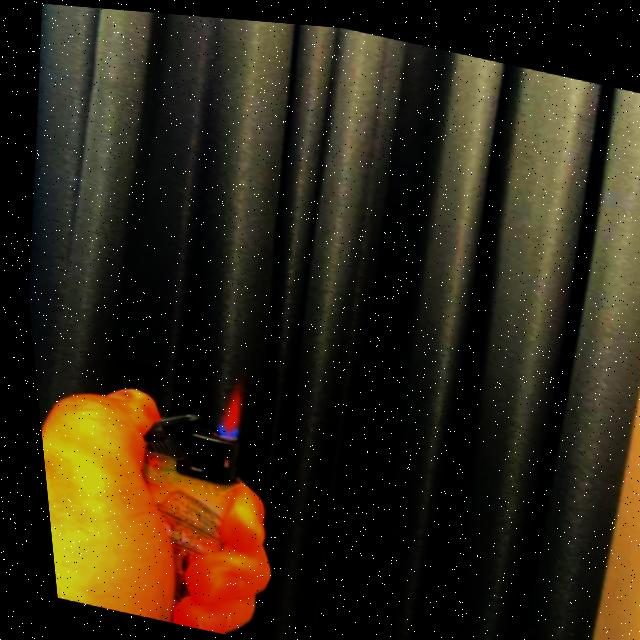Fire: (203, 369, 245, 439)
